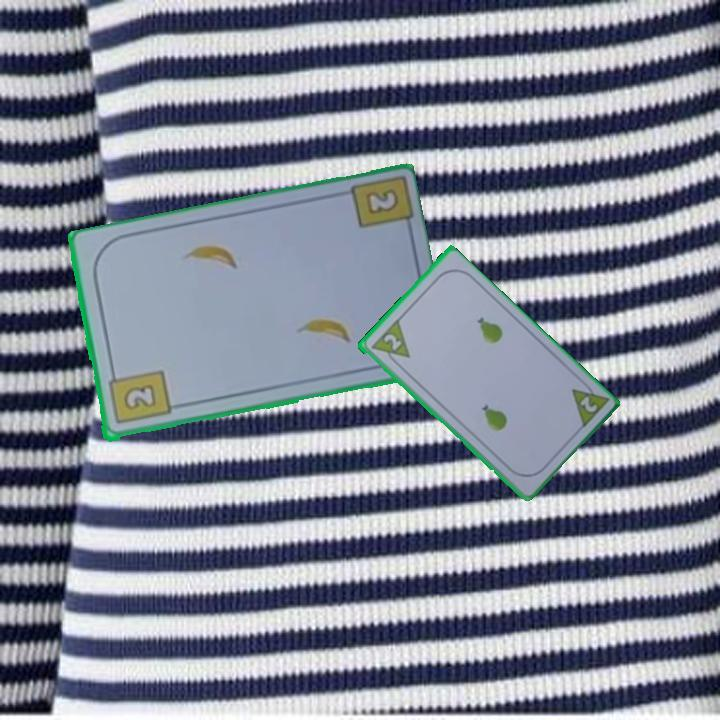2b: (104, 366, 173, 428), (365, 188, 398, 215)
2p: (567, 375, 611, 432), (366, 317, 412, 370)
